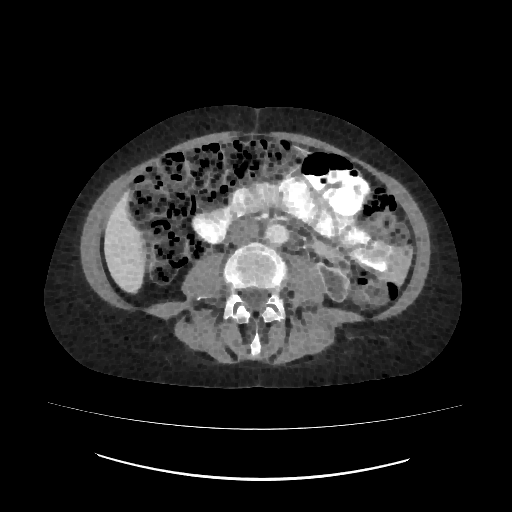Lesion: (317, 265, 348, 301)
